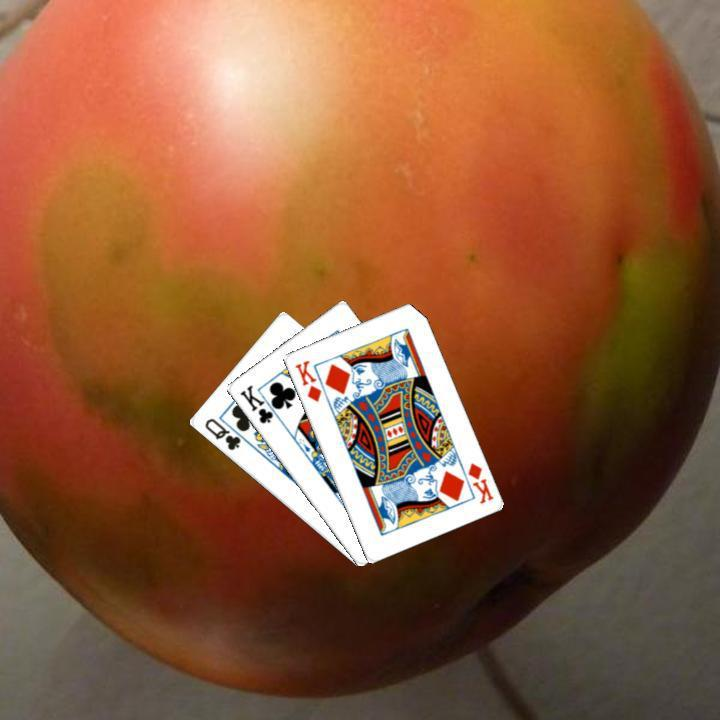K: (235, 380, 283, 426), (290, 356, 323, 404), (463, 458, 495, 505)
Q: (200, 414, 243, 452)
